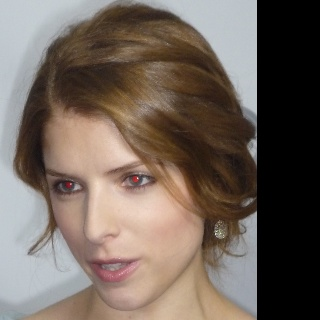without_mask: (34, 107, 212, 310)
